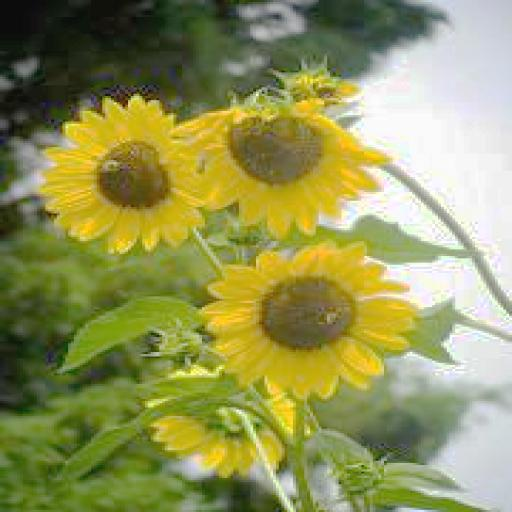sunflower: (199, 239, 418, 395), (179, 88, 384, 226), (40, 98, 210, 254), (140, 367, 308, 476)
